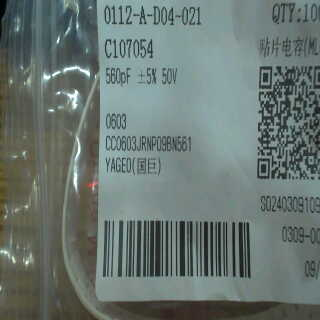560pF: (104, 63, 133, 90)
